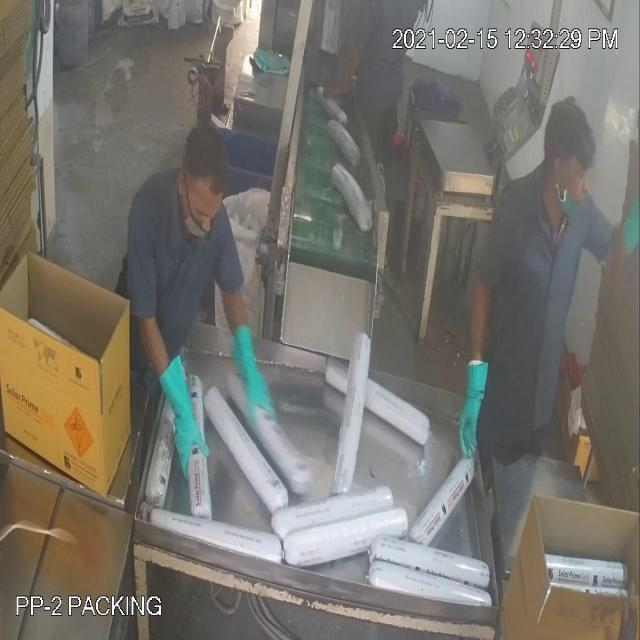Gloves: (37, 68, 476, 418)
